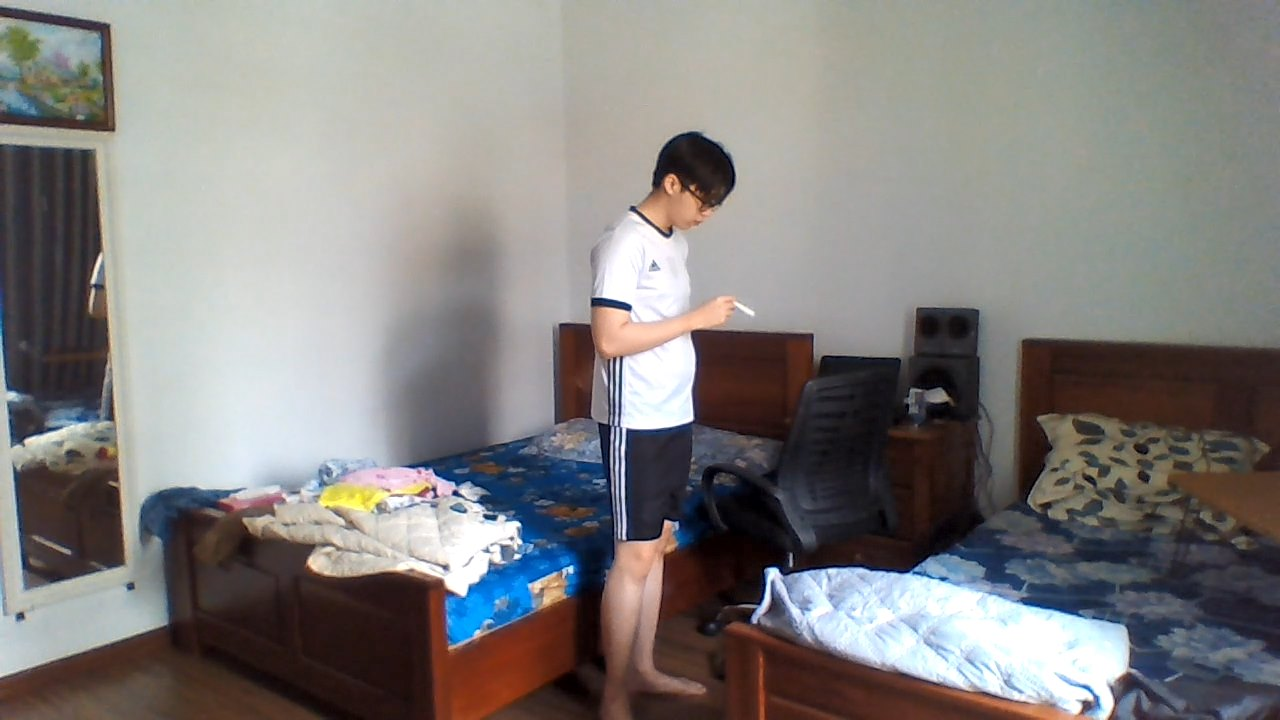cigarette: (733, 299, 756, 319)
person: (563, 121, 736, 720)
